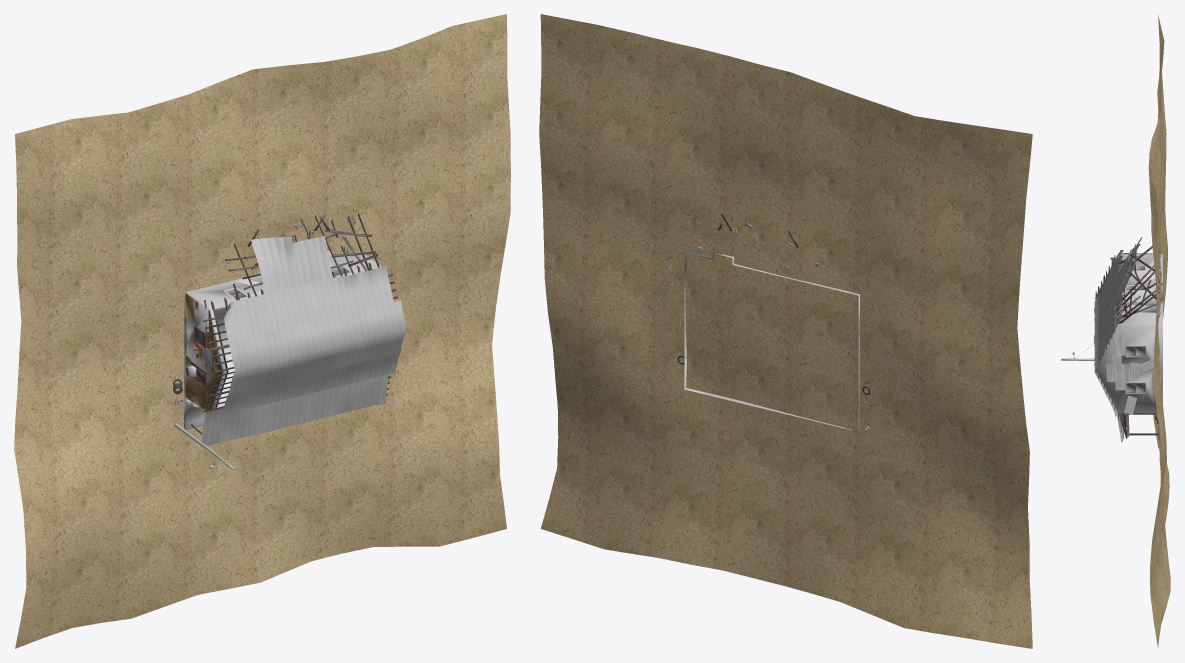
The model's file is Shack_Final.fbx.
3 renders of one model, left to right at view 1: azimuth 30°, elevation 25°; view 2: azimuth 150°, elevation 25°; view 3: azimuth 270°, elevation 25°, orthographic. The views are drawn at different scales.
Visible parts, largest first — view 1: Shack_final.001, Shack_final.003, Shack_final.010, Shack_final, Shack_final.004; view 2: Shack_final.001, Shack_final.010; view 3: Shack_final.001, Shack_final.010, Shack_final.003, Shack_final, Shack_final.012, Shack_final.013.
Part boxes in pixels (<box>): Shack_final.001: <box>14,14,510,648</box>; Shack_final.003: <box>200,236,406,446</box>; Shack_final.010: <box>184,250,381,429</box>; Shack_final: <box>191,213,397,434</box>; Shack_final.004: <box>185,293,222,410</box>; Shack_final.001: <box>539,14,1032,648</box>; Shack_final.010: <box>684,251,859,431</box>; Shack_final.001: <box>1148,15,1170,647</box>; Shack_final.010: <box>1095,253,1162,439</box>; Shack_final.003: <box>1094,238,1141,442</box>; Shack_final: <box>1095,237,1160,438</box>; Shack_final.012: <box>1106,338,1161,418</box>; Shack_final.013: <box>1126,347,1144,392</box>.
Bounding box in the file's own units: 22.48 × 22.75 × 5.12.
